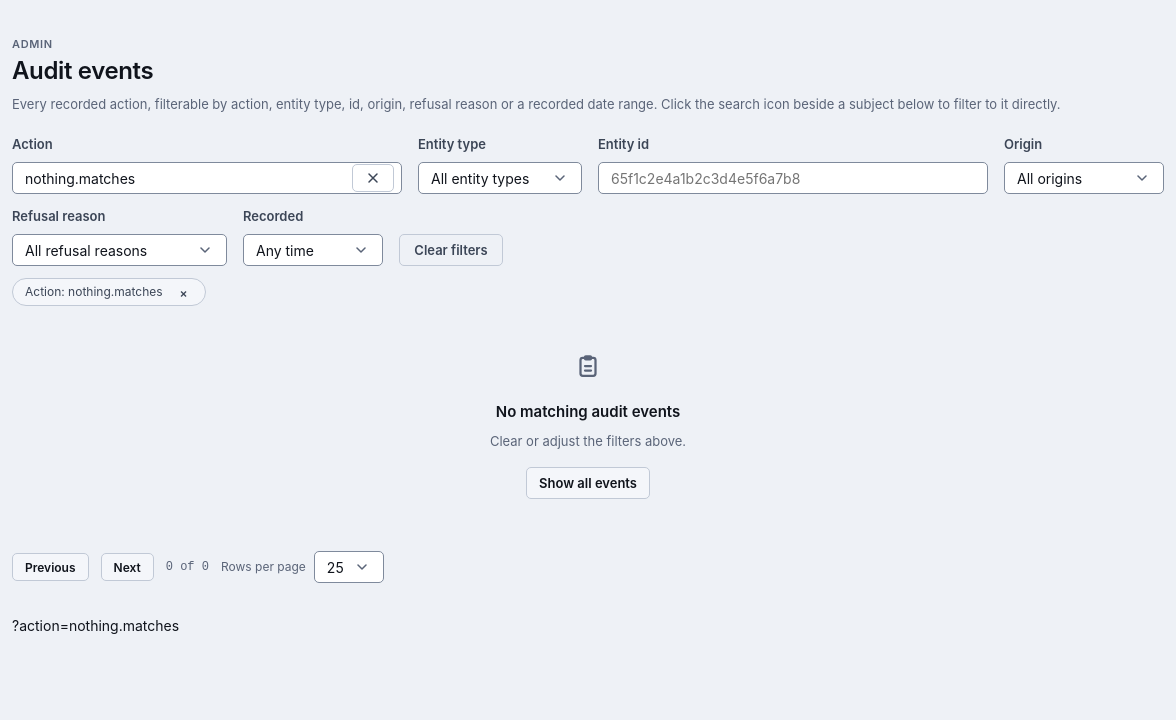
it: AuditEventsPage › offers Show all events from the empty state once a filter has narrowed the result to nothing, distinct from FilterBar's own Clear filters button
expect the text "No matching audit events" is shown: met, box left=496, top=400, right=680, bottom=423
Click the button "Show all events": (588, 483) left=526, top=467, right=650, bottom=499
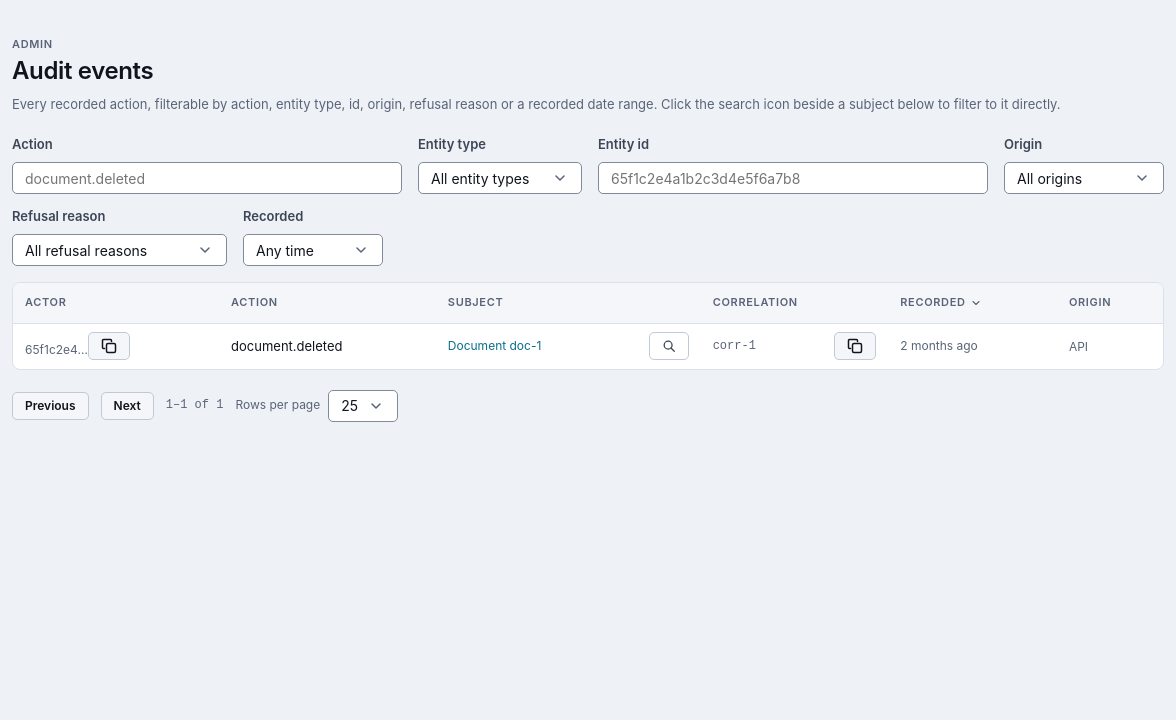
expect the text "document.deleted" is shown: met, box left=219, top=324, right=436, bottom=369
expect the search field labelled "Action" is empty: met, box left=12, top=162, right=402, bottom=194
